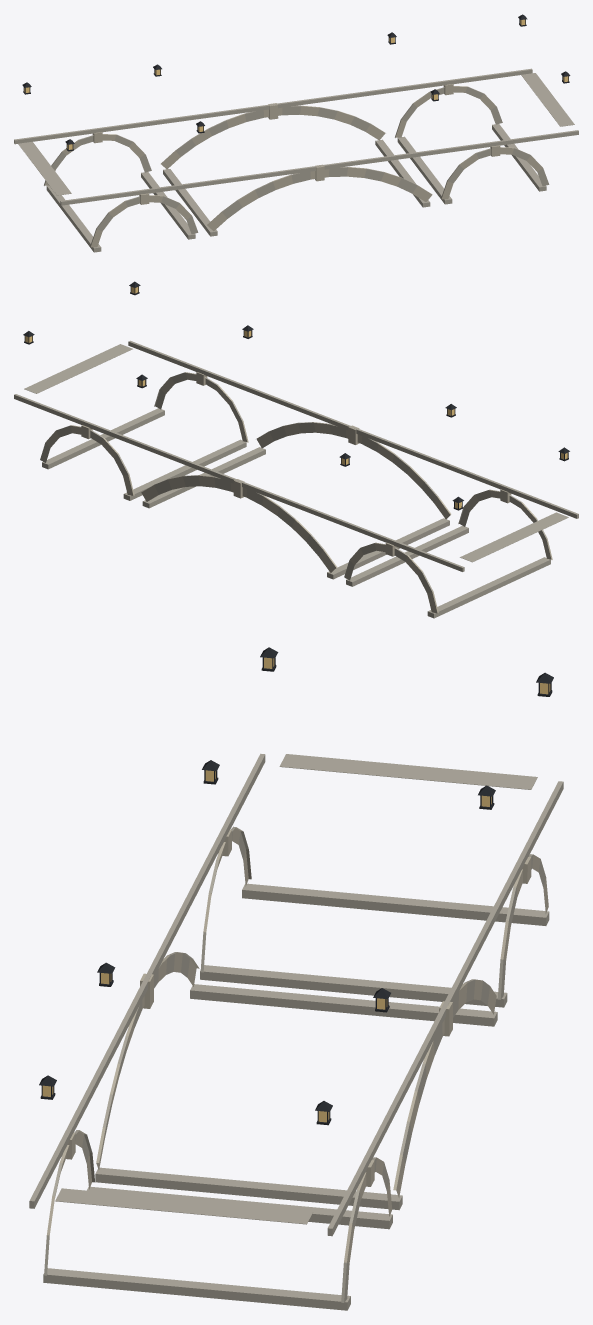
Rendered from SM_Bridge_ToAbandoned_NoCol.fbx.
The picture shows the model from 3 angles, top to bottom: view 1: azimuth 30°, elevation 25°; view 2: azimuth 150°, elevation 25°; view 3: azimuth 270°, elevation 25°; orthographic projection. The views are drawn at different scales.
Parts seen in each view (by area): view 1: SM_Bridge_ToAbandoned_NoCol; view 2: SM_Bridge_ToAbandoned_NoCol; view 3: SM_Bridge_ToAbandoned_NoCol.
Boxes of the visible parts, bbox=[...] form: SM_Bridge_ToAbandoned_NoCol: bbox=[14, 14, 578, 252]; SM_Bridge_ToAbandoned_NoCol: bbox=[14, 281, 578, 618]; SM_Bridge_ToAbandoned_NoCol: bbox=[29, 647, 563, 1310].
Size of the model in its own units: 21.89 by 4.9 by 10.36.
